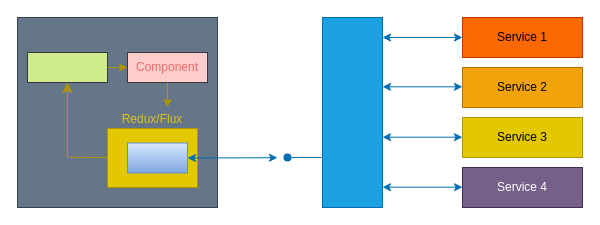
Some shapes in this 600 by 225 pixel diagram are drawn without their labels. The centre of each missing label's shape, as x and y in pixels:
"Bus" belongs at pixel 157 157.
"Gateway" belongs at pixel 352 112.
"State" belongs at pixel 67 67.
